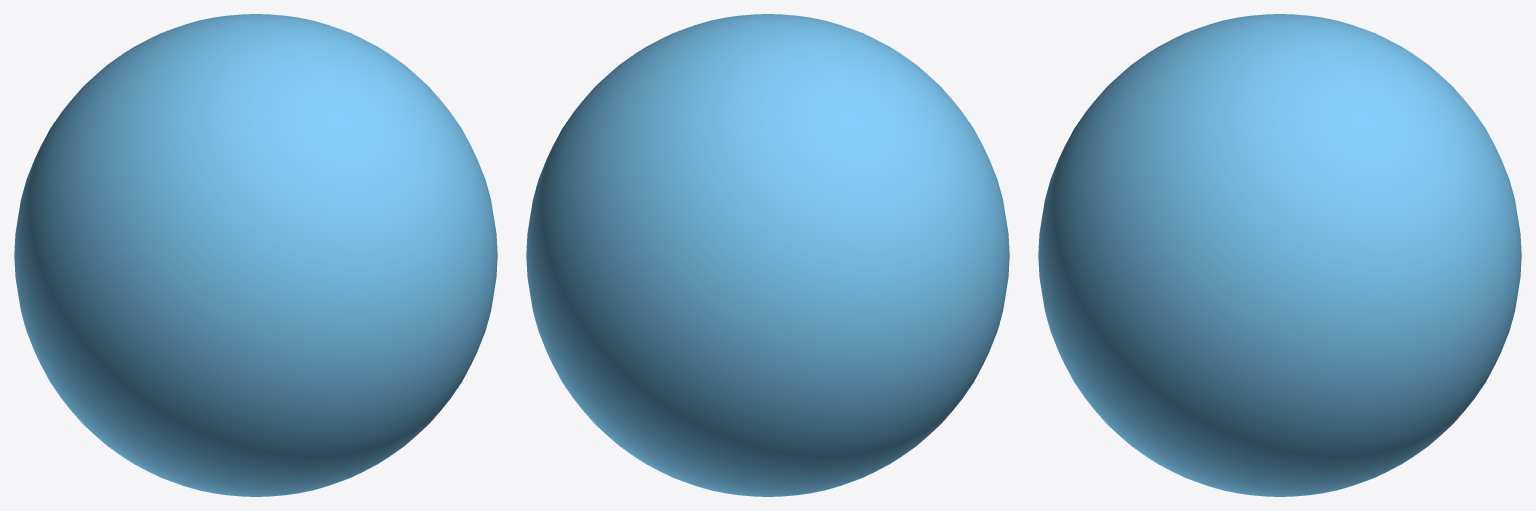
The picture shows the model from 3 angles, left to right: view 1: azimuth 30°, elevation 25°; view 2: azimuth 150°, elevation 25°; view 3: azimuth 270°, elevation 25°; orthographic projection.
Parts seen in each view (by area): view 1: LodSphereRoot, LodSphere1; view 2: LodSphereRoot, LodSphere1; view 3: LodSphereRoot, LodSphere1.
Boxes of the visible parts, left/top/right/bottom form: LodSphereRoot: left=14, top=14, right=497, bottom=496; LodSphere1: left=24, top=17, right=487, bottom=495; LodSphereRoot: left=526, top=14, right=1009, bottom=496; LodSphere1: left=536, top=17, right=999, bottom=495; LodSphereRoot: left=1038, top=14, right=1521, bottom=496; LodSphere1: left=1046, top=17, right=1513, bottom=496.
Bounding box in the file's own units: 2 × 2 × 2.
